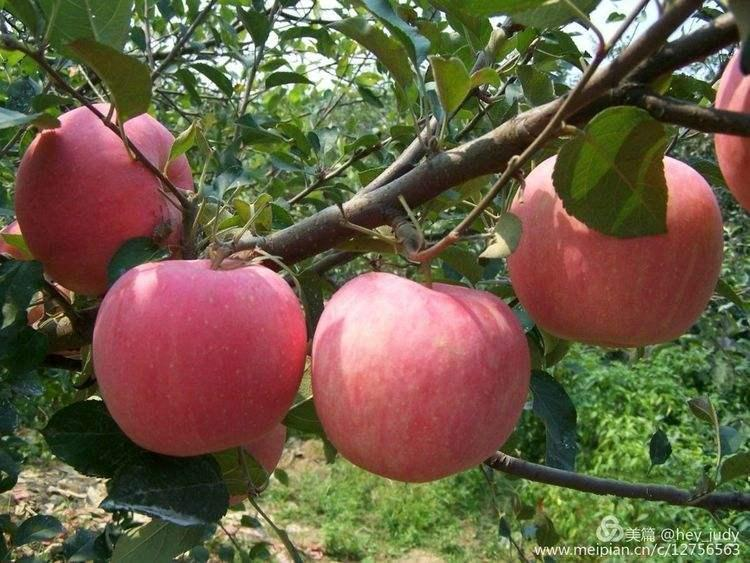apple: (304, 272, 529, 482), (89, 260, 307, 452), (506, 158, 723, 350), (13, 104, 197, 295)
